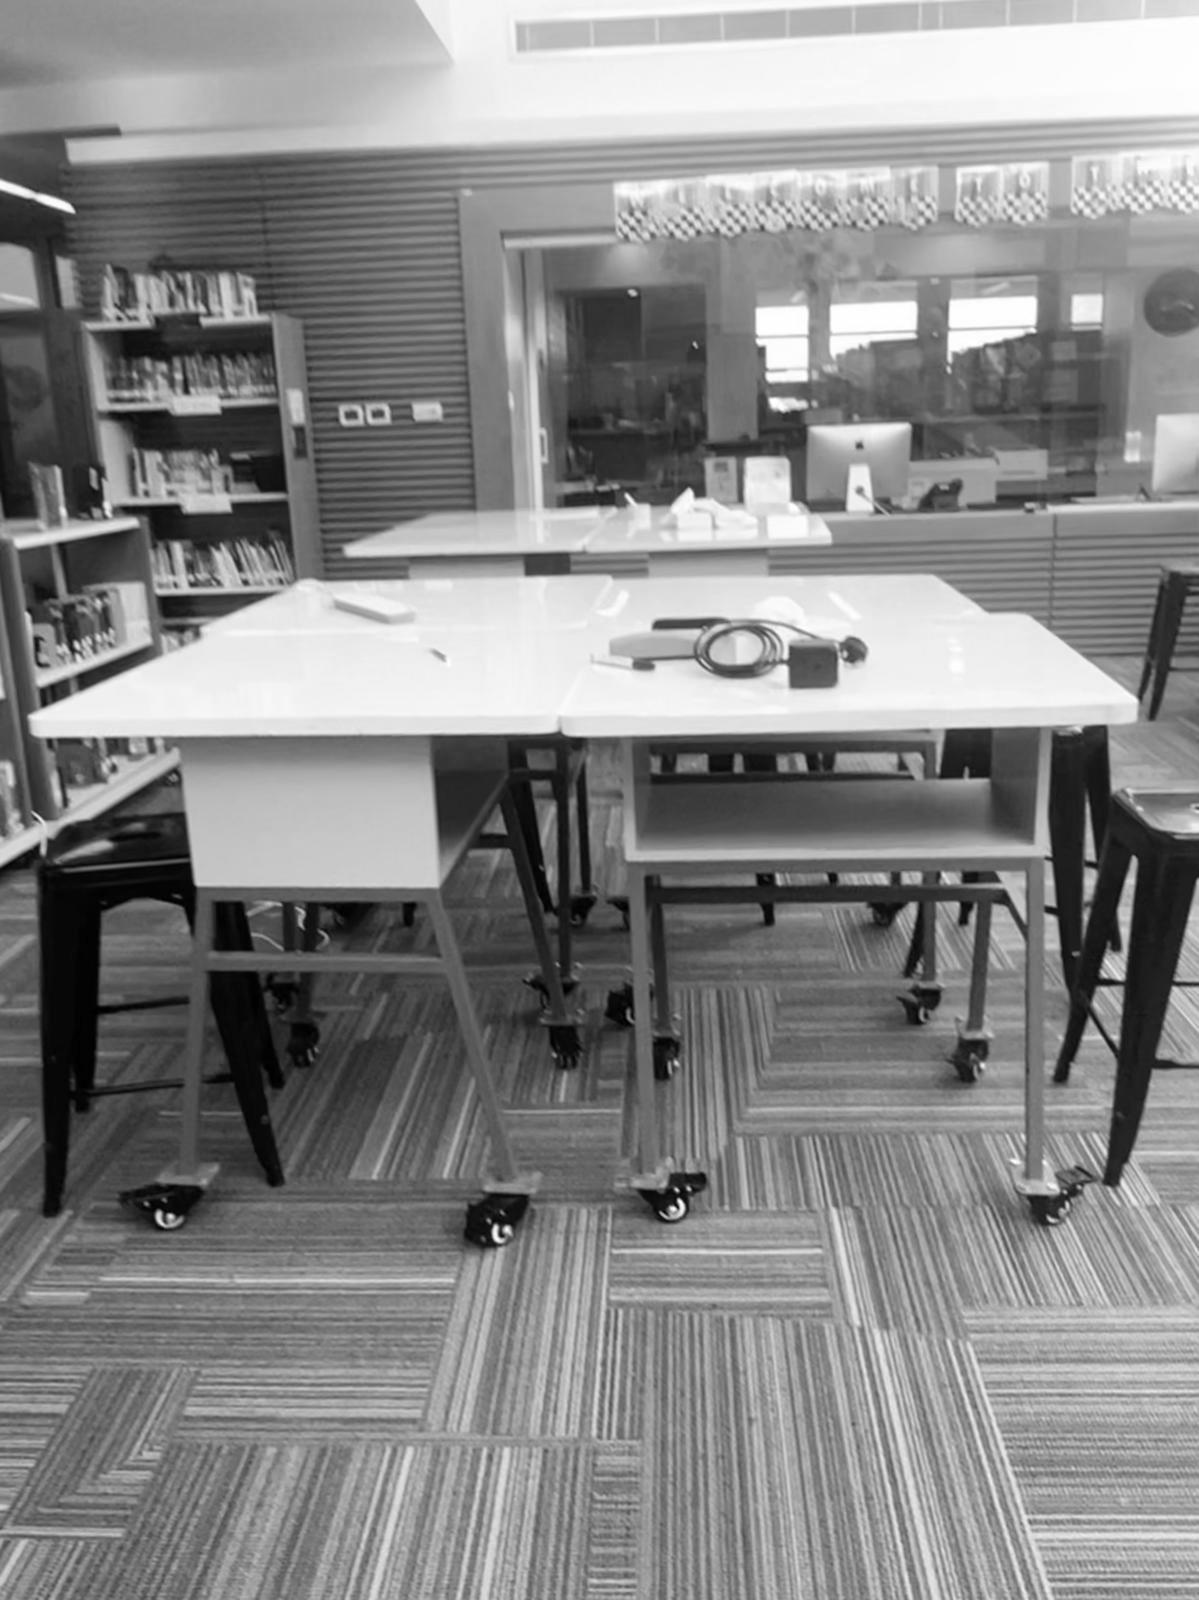Chair: (39, 814, 193, 1215), (1054, 786, 1198, 1187), (1154, 564, 1198, 651)
Table: (31, 507, 1137, 1198)
Wall: (65, 113, 1198, 575), (895, 511, 1181, 653)
